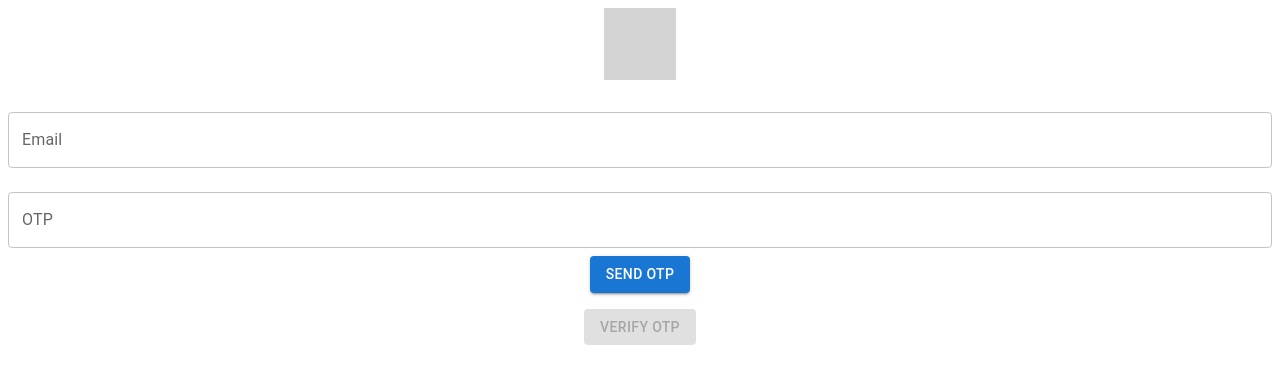
it: OTP Authentication Page › should render OTP authentication form
Type "test@example.com" into the field labelled "Email".
click(640, 140); type("test@example.com")  # box [8,112,1272,168]
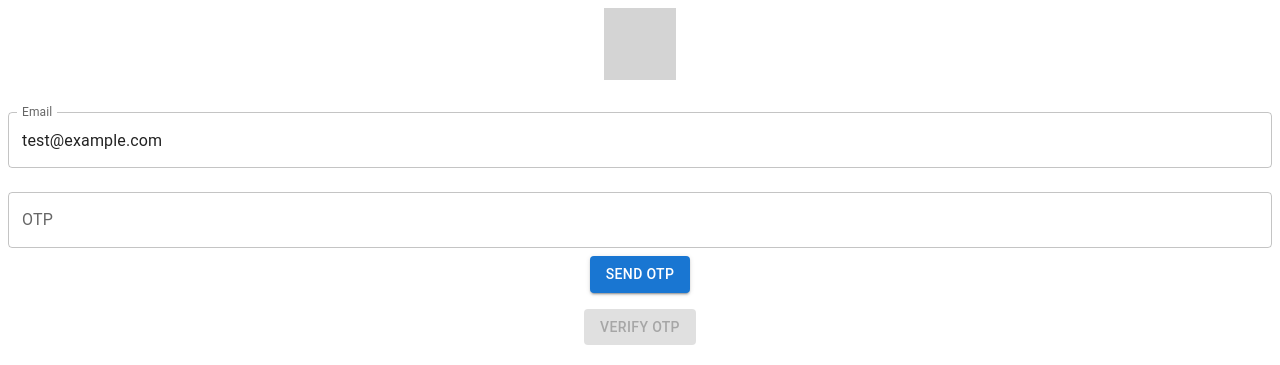
Click the button "Send OTP".
click(640, 274)  # box [590,256,690,292]
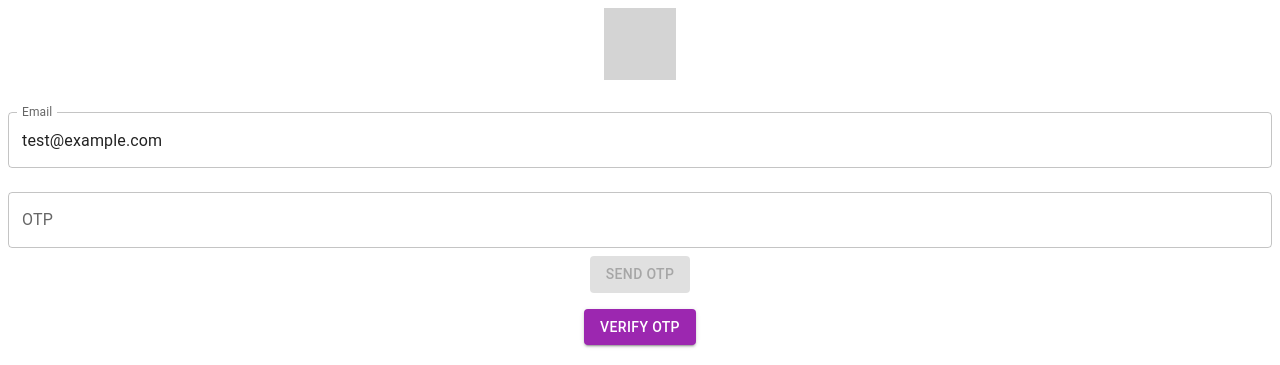
Result: the button "Send OTP" is disabled at [590,256,690,292]
